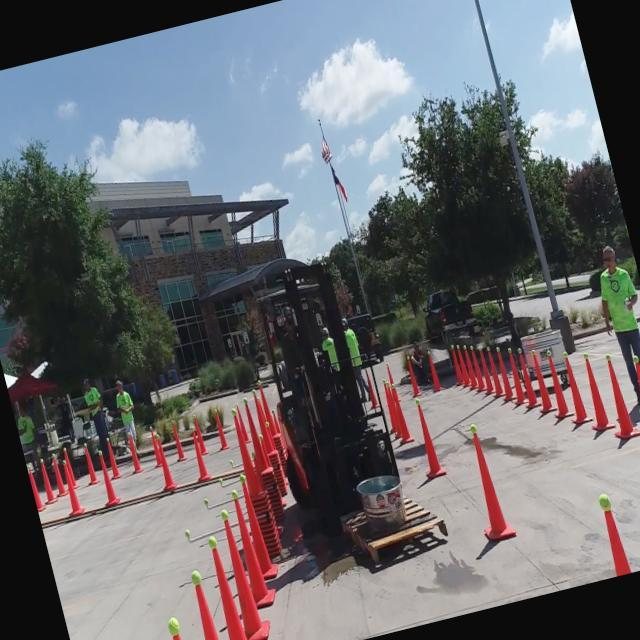forklift: (243, 270, 382, 511)
person: (590, 238, 640, 354), (80, 376, 111, 442), (109, 374, 138, 438), (341, 316, 365, 376), (13, 404, 39, 454)
